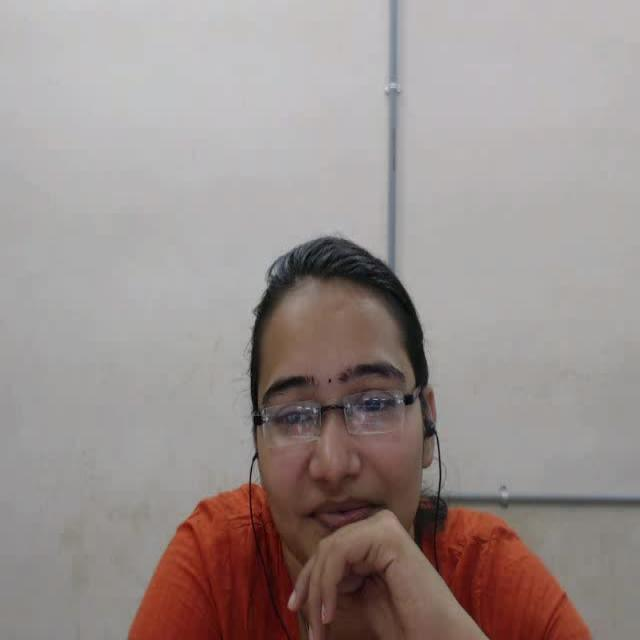Bored: (197, 195, 462, 614)
